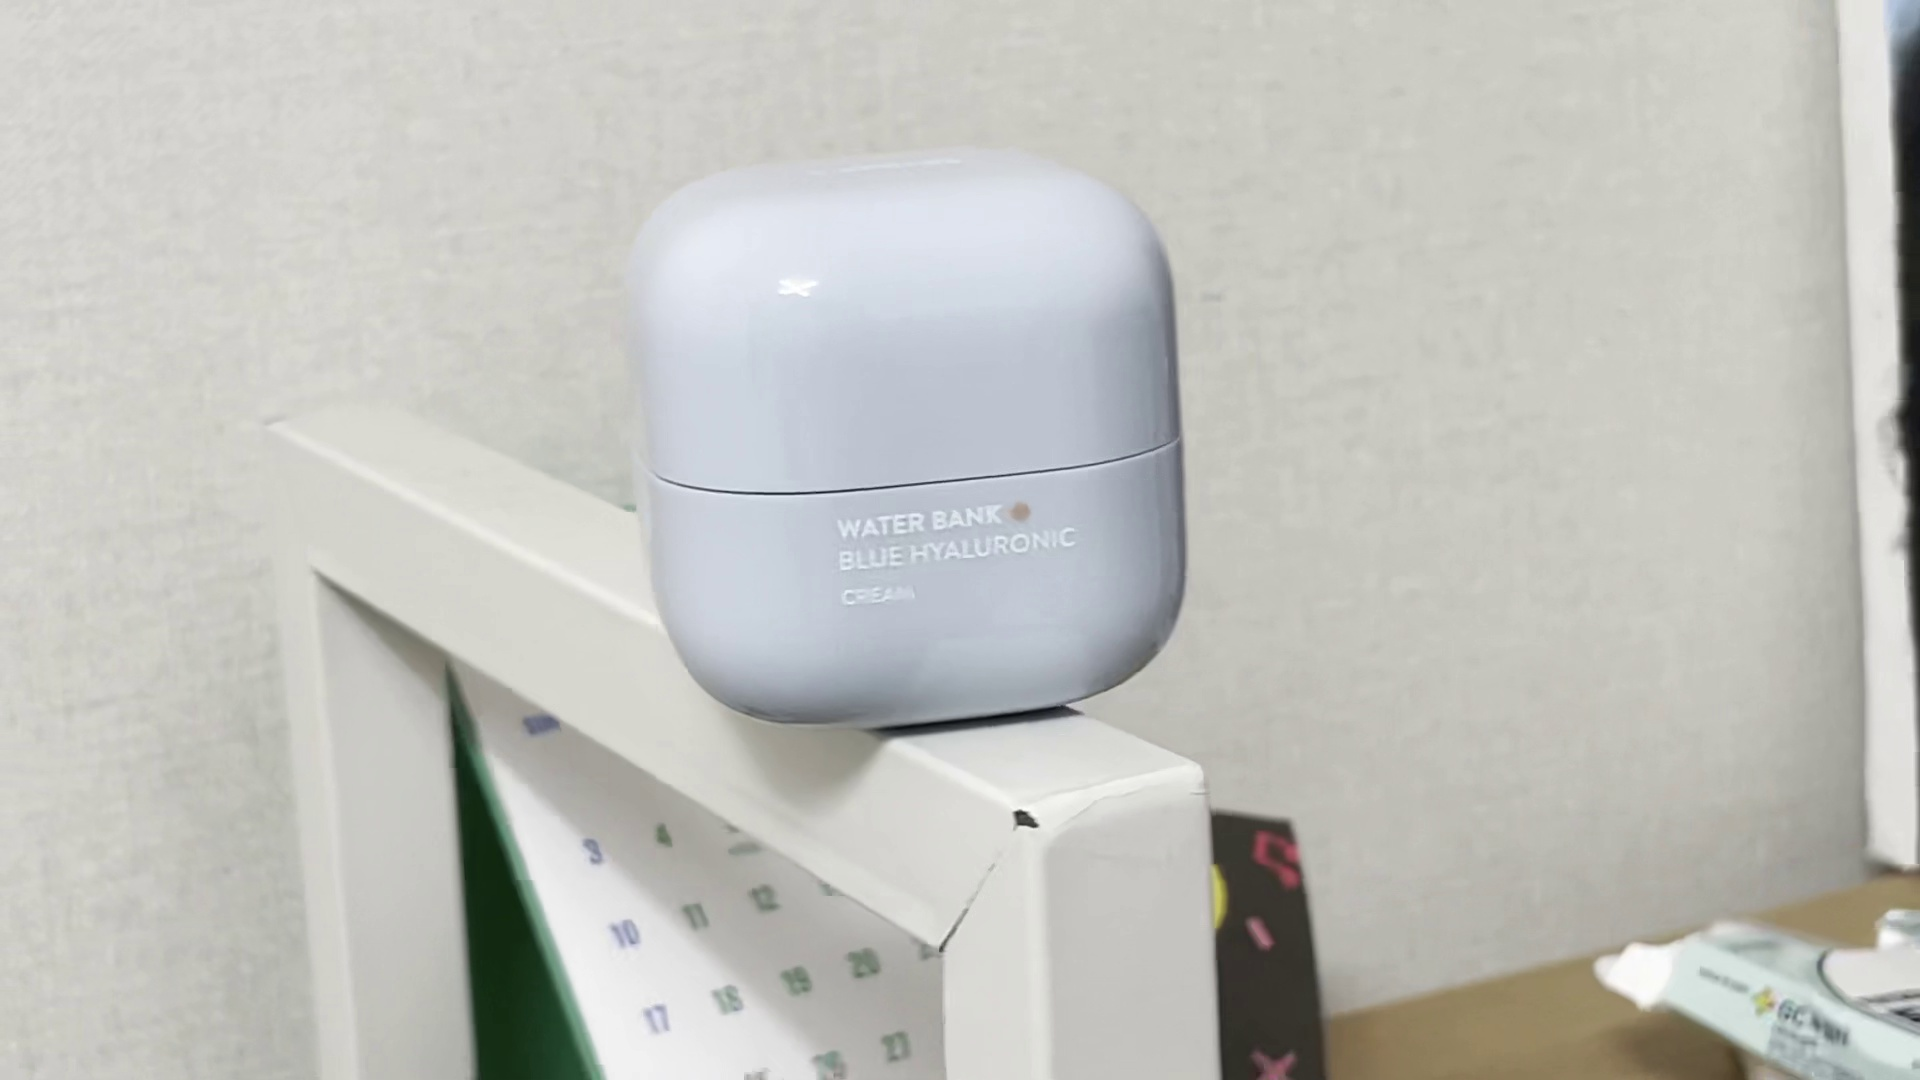cream: (628, 145, 1199, 733)
